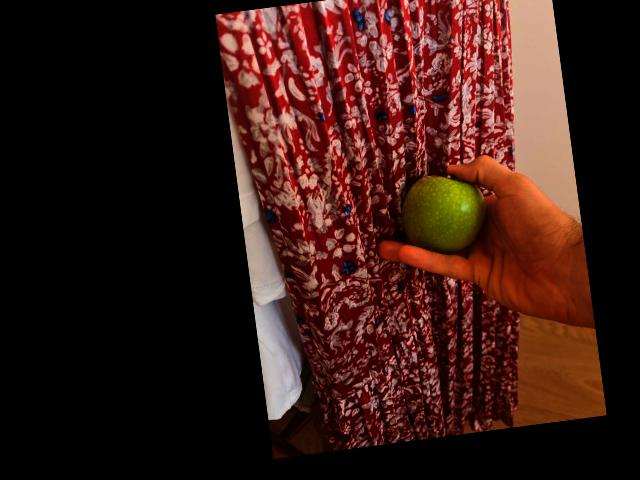apple: (398, 172, 481, 257)
